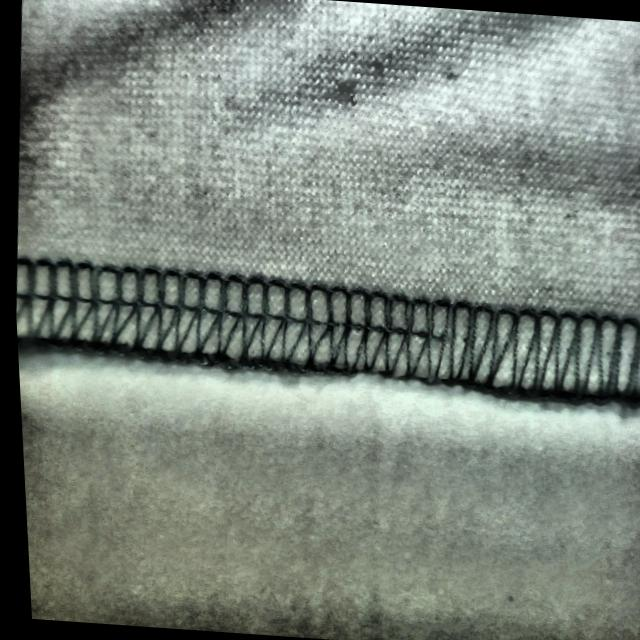Stitch: (192, 270, 640, 406)
